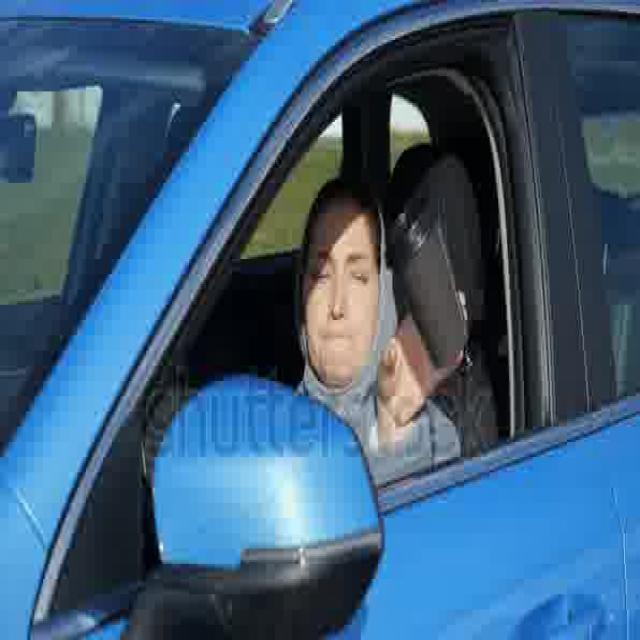human: (287, 173, 458, 489)
trash: (376, 197, 471, 366)
